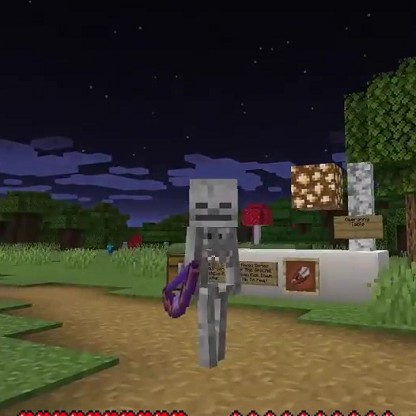skeleton: (177, 177, 248, 369)
